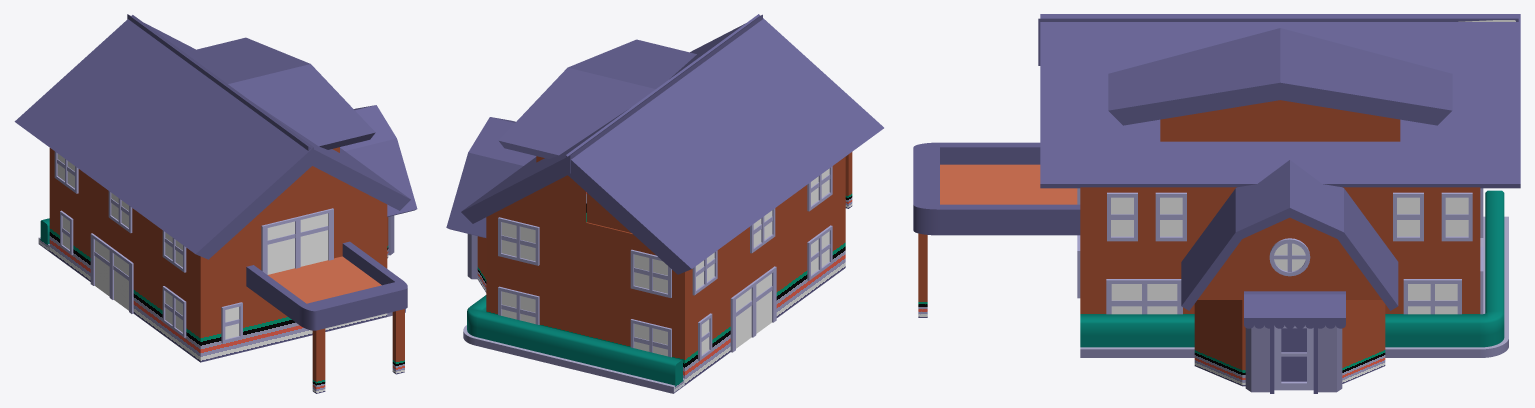
The model's file is house.glb.
3 views of the same model, side by side, from view 1: azimuth 30°, elevation 25°; view 2: azimuth 150°, elevation 25°; view 3: azimuth 270°, elevation 25° (orthographic). The views are drawn at different scales.
Parts seen in each view (by area): view 1: roof_half, block, roof_halfDormer, detail_balcony, door_wide (×2), roof_barnHalf, window_wide (×4), columns_large, window (×2); view 2: roof_half, block, roof_halfDormer, window_wide (×8), hedge_low, roof_barnHalf, door_wide, window, block_corner_small, doorway_doorSolid, hedge_roundInner, columns_large; view 3: roof_halfDormer, roof_barnHalf (×2), block, detail_balcony, hedge_low (×3), block_corner_small (×2), doorway_doorSolid, window_double (×2), window_wide (×2), awning, roof_half, window_round_detail (+2 smaller).
Part boxes in pixels (x1=…): roof_half: x1=14, y1=15, x2=313, y2=259; block: x1=49, y1=148, x2=387, y2=362; roof_halfDormer: x1=127, y1=14, x2=410, y2=211; detail_balcony: x1=246, y1=241, x2=407, y2=330; door_wide (×2): x1=90, y1=208, x2=333, y2=313; roof_barnHalf: x1=340, y1=105, x2=417, y2=216; window_wide (×4): x1=54, y1=151, x2=186, y2=337; columns_large: x1=312, y1=309, x2=404, y2=393; window (×2): x1=60, y1=210, x2=242, y2=343; roof_half: x1=566, y1=14, x2=883, y2=274; block: x1=486, y1=157, x2=845, y2=385; roof_halfDormer: x1=461, y1=14, x2=762, y2=226; window_wide (×8): x1=498, y1=166, x2=832, y2=357; hedge_low: x1=474, y1=311, x2=684, y2=393; roof_barnHalf: x1=446, y1=117, x2=536, y2=237; door_wide: x1=730, y1=266, x2=776, y2=352; window: x1=698, y1=313, x2=712, y2=360; block_corner_small: x1=477, y1=236, x2=486, y2=292; doorway_doorSolid: x1=467, y1=234, x2=477, y2=279; hedge_roundInner: x1=463, y1=306, x2=482, y2=345; columns_large: x1=845, y1=152, x2=852, y2=208; roof_halfDormer: x1=1040, y1=14, x2=1520, y2=188; roof_barnHalf (×2): x1=1181, y1=160, x2=1398, y2=310; block: x1=1080, y1=187, x2=1480, y2=314; detail_balcony: x1=913, y1=142, x2=1080, y2=235; hedge_low (×3): x1=1080, y1=190, x2=1508, y2=357; block_corner_small (×2): x1=1194, y1=300, x2=1385, y2=386; doorway_doorSolid: x1=1245, y1=325, x2=1342, y2=393; window_double (×2): x1=1107, y1=192, x2=1472, y2=241; window_wide (×2): x1=1106, y1=279, x2=1461, y2=314; awning: x1=1244, y1=291, x2=1345, y2=328; roof_half: x1=1038, y1=18, x2=1518, y2=65; window_round_detail: x1=1269, y1=238, x2=1310, y2=276.
Size of the model in its own units: 4.65 by 3.14 by 6.37.
1 material, 1 textured.
